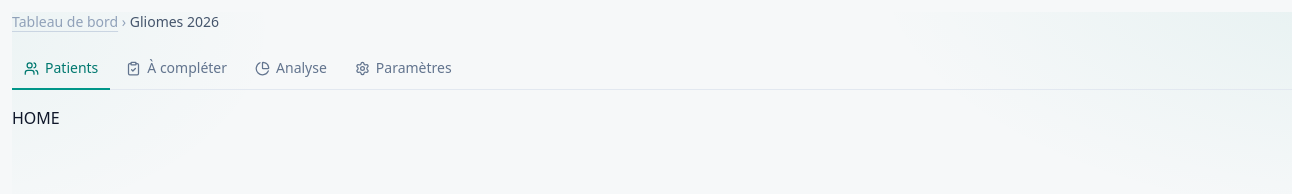
it: BaseLayout — quatre destinations › l onglet Analyse ouvre l export sans quitter les onglets
Click the link "Analyse". click: (291, 68)
box: [255,58,327,77]
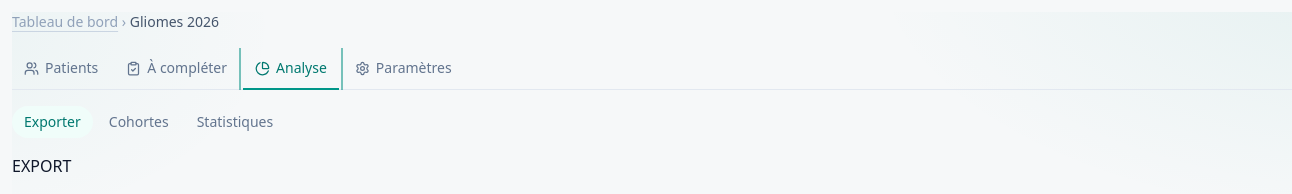
Expected: the navigation bar named "Gliomes 2026" is shown, [12,48,1291,90]
Expected: the text "EXPORT" is shown, [12,155,71,177]
